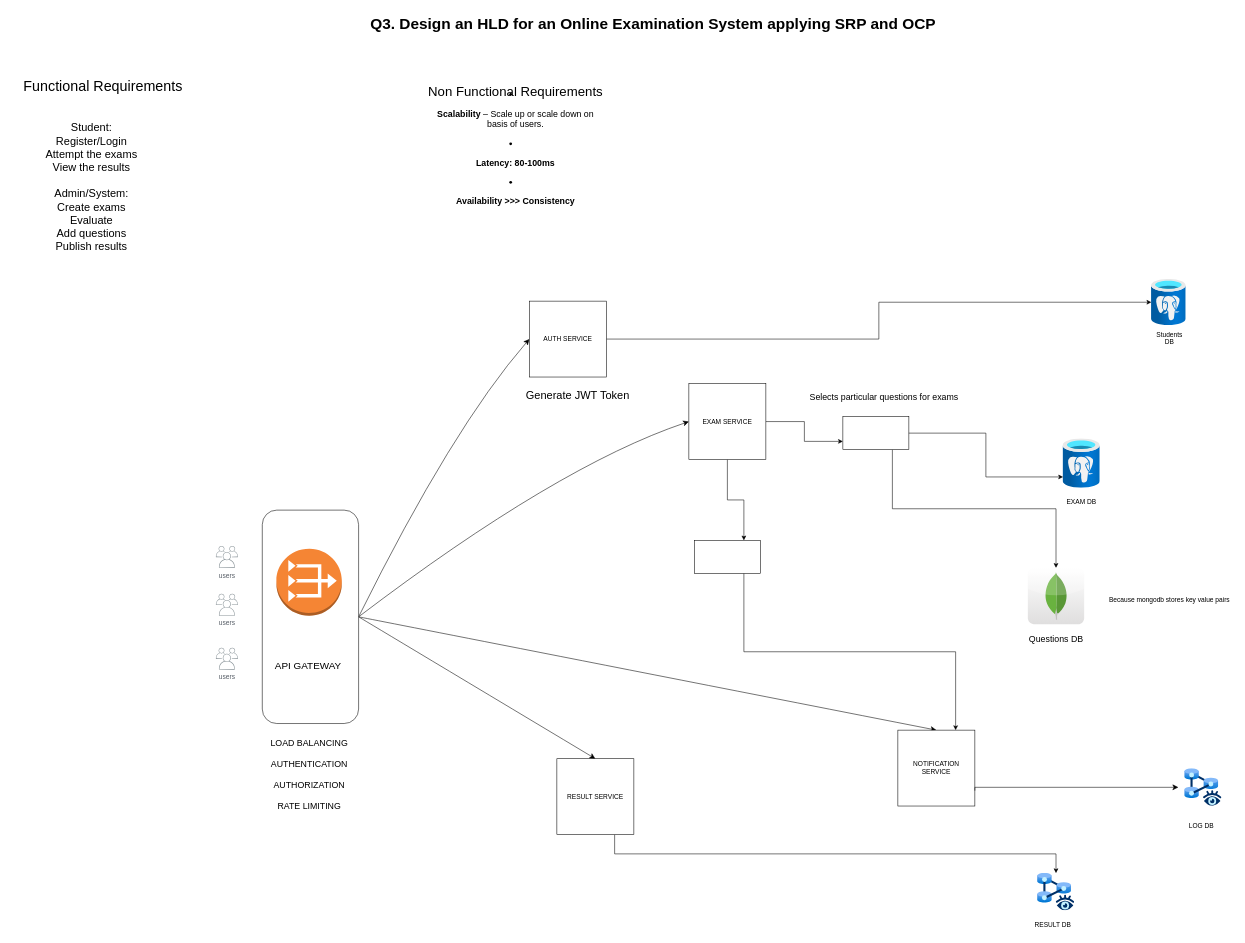
Image size: 1245x943. Some labels were removed from this diagram. Each missing label, with the centre of its shape:
"Prepare Exam" goes at point 875,433.
"Take Exam" goes at point 727,556.
